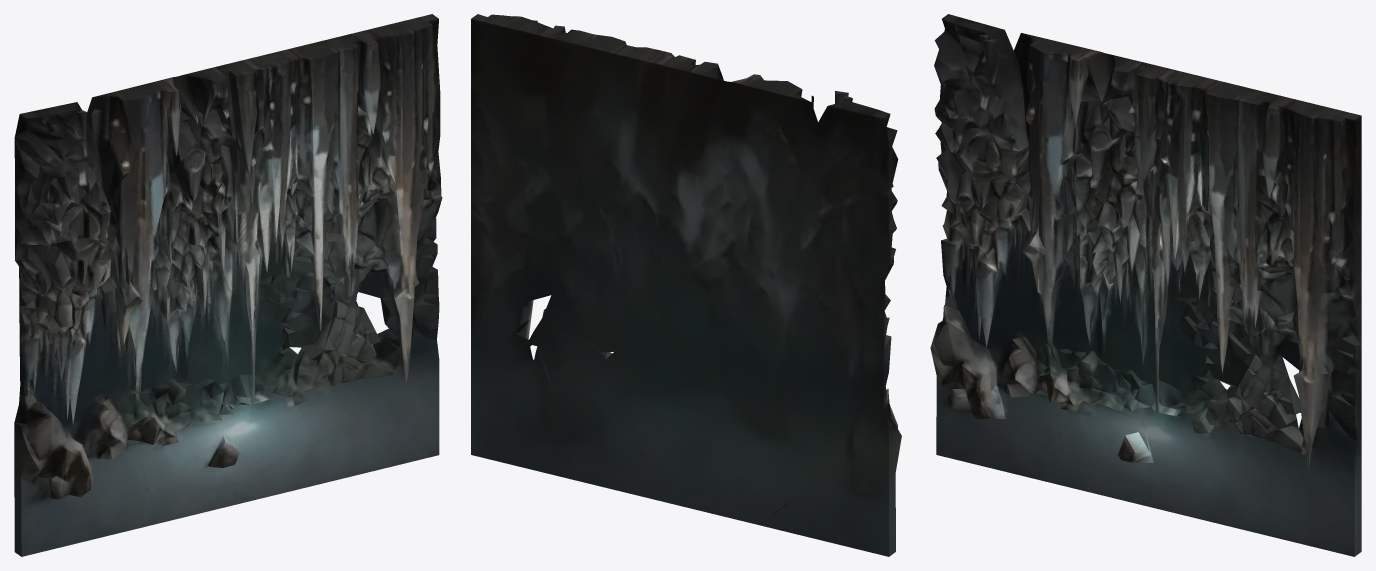
The model's file is m2GrottoWallBg.glb.
The picture shows the model from 3 angles, left to right: view 1: azimuth 30°, elevation 25°; view 2: azimuth 150°, elevation 25°; view 3: azimuth 330°, elevation 25°; orthographic projection.
Parts seen in each view (by area): view 1: model; view 2: model; view 3: model.
Boxes of the visible parts, x1,y1,x2,y2 form: model: (14, 14, 442, 556); model: (471, 14, 901, 556); model: (930, 14, 1361, 556).
Bounding box in the file's own units: 1.89 × 1.88 × 0.1524.
Materials: 1 (1 with a texture image).
